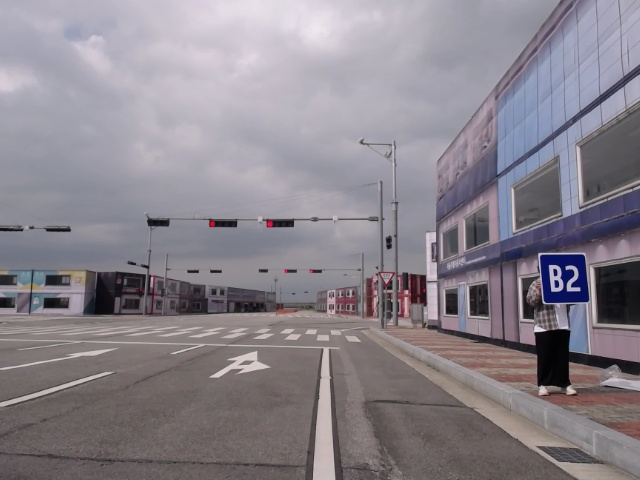delivery_b2: (537, 251, 592, 305)
red_4: (264, 216, 298, 229), (206, 218, 240, 228), (283, 267, 299, 275), (308, 268, 325, 275)
